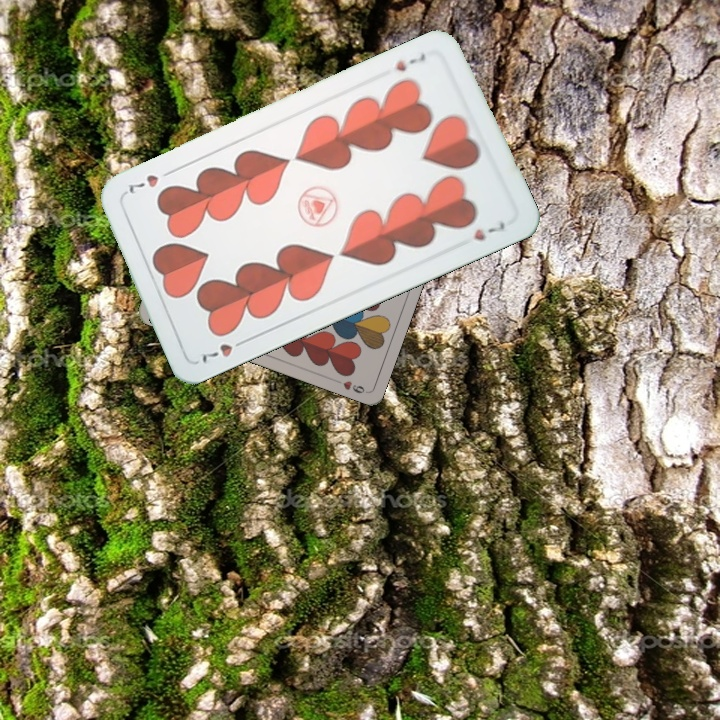H7: (195, 335, 251, 366), (391, 49, 428, 74)
